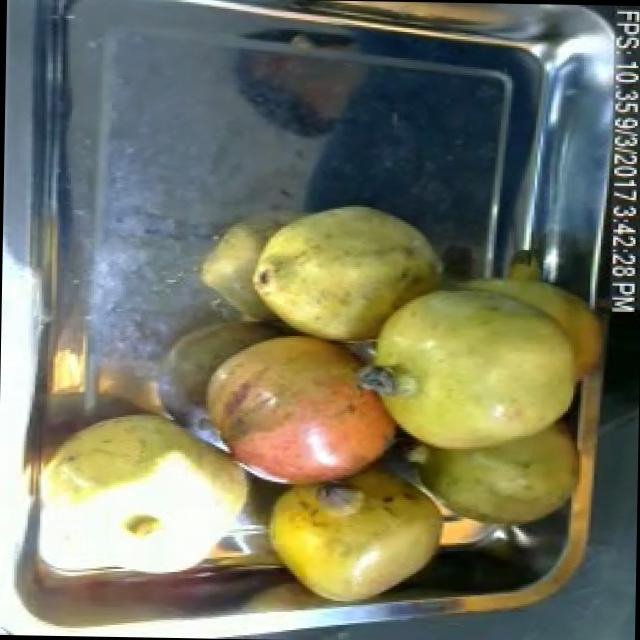fruit: (349, 232, 616, 478), (20, 397, 266, 591), (180, 318, 412, 506), (233, 190, 457, 357), (246, 446, 467, 614)
